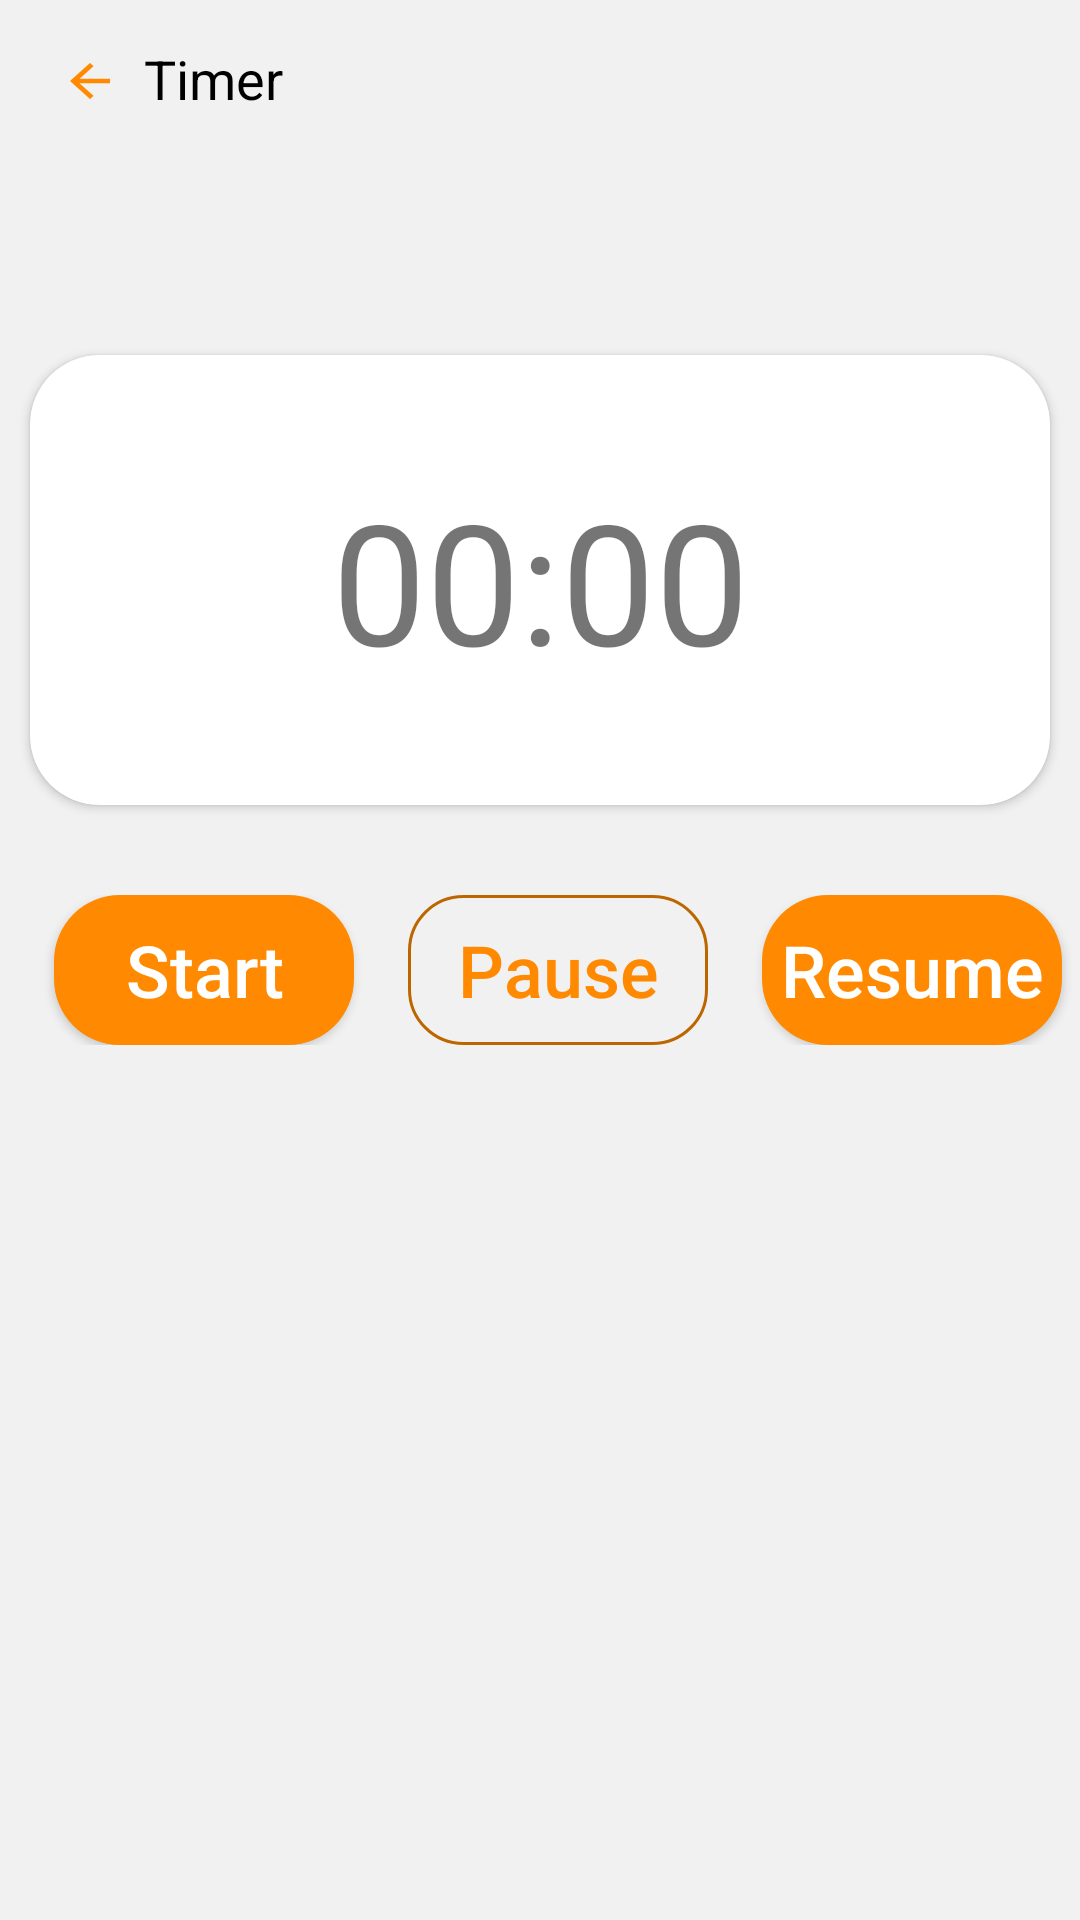

Locate icon controls on the screen. Image size 1080 × 1920, boxes as {"left": x1, "top": y1, "right": x2, "bottom": y2}.
arrow back: {"left": 70, "top": 63, "right": 110, "bottom": 99}
